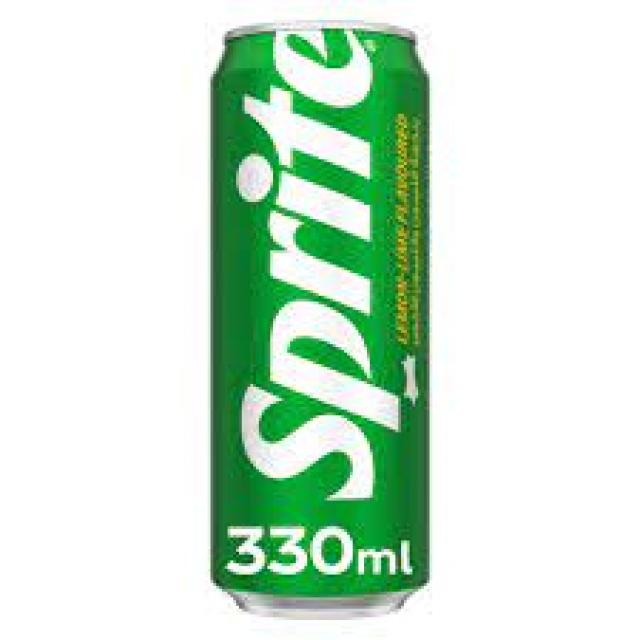aluminum_can: (213, 26, 430, 616)
